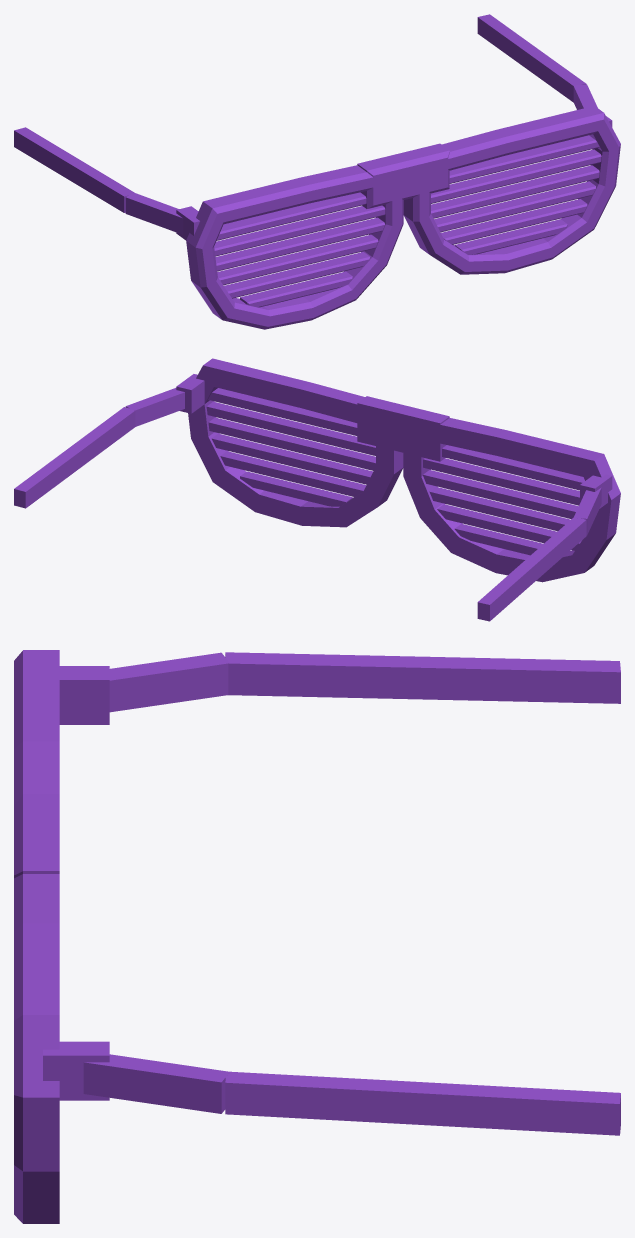
File: Purple_Shutter_Shades.fbx
3 renders of one model, top to bottom at view 1: azimuth 30°, elevation 25°; view 2: azimuth 150°, elevation 25°; view 3: azimuth 270°, elevation 25°, orthographic. The views are drawn at different scales.
Visible parts, largest first — view 1: Purple_Shutter_Shades; view 2: Purple_Shutter_Shades; view 3: Purple_Shutter_Shades.
Part boxes in pixels (left/top/right/bottom): Purple_Shutter_Shades: left=14, top=14, right=620, bottom=329; Purple_Shutter_Shades: left=14, top=358, right=620, bottom=621; Purple_Shutter_Shades: left=14, top=650, right=620, bottom=1223.
Bounding box in the file's own units: 0.2524 × 0.069 × 0.1461.
